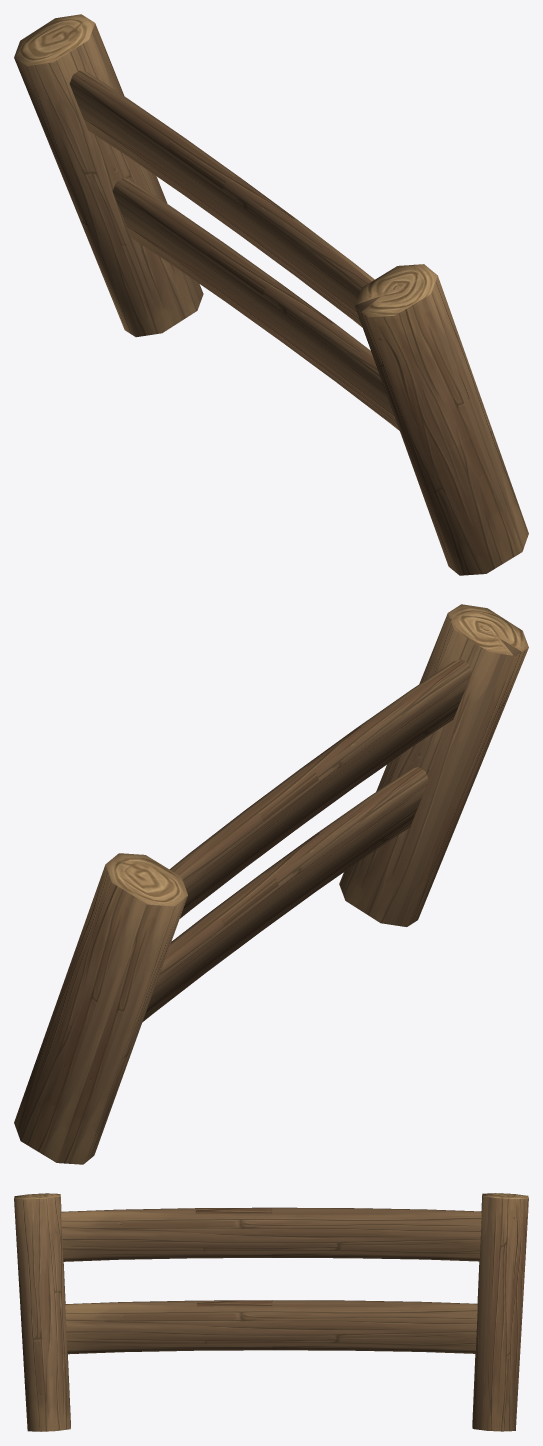
File: fence.fbx
3 views of the same model, one above another, from view 1: azimuth 30°, elevation 25°; view 2: azimuth 150°, elevation 25°; view 3: azimuth 270°, elevation 25° (orthographic). The views are drawn at different scales.
Parts seen in each view (by area): view 1: SF_Prop_Fence_Wood_01; view 2: SF_Prop_Fence_Wood_01; view 3: SF_Prop_Fence_Wood_01.
Boxes of the visible parts, x1,y1,x2,y2 form: SF_Prop_Fence_Wood_01: (14,14,528,575); SF_Prop_Fence_Wood_01: (14,604,528,1164); SF_Prop_Fence_Wood_01: (14,1193,528,1431).
Size of the model in its own units: 42.8 by 76.65 by 164.
